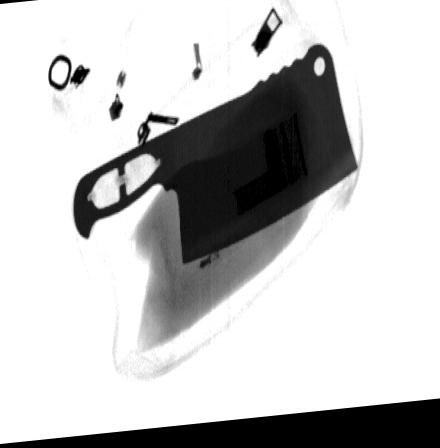Knife: (70, 49, 359, 272)
